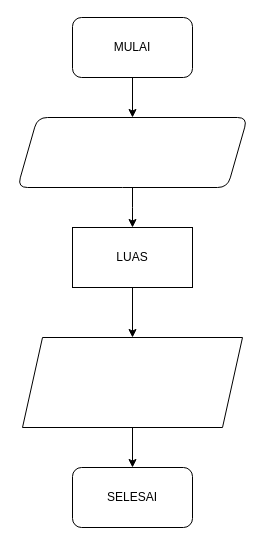
Image size: 265x545. Some labels were removed from this diagram. Here are the shapes that lost their labels. From the top down, the centre of each, then its label:
At pixel 132 152: "INPUT VARIABLE PI DAN JARI JARI".
At pixel 132 382: "OUTPUT ADALAH HASIL DARI VARIABLE LUAS".
